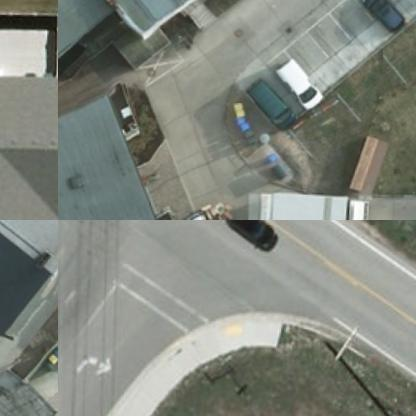car: (220, 220, 286, 259), (358, 0, 406, 42)
van: (238, 82, 298, 138), (270, 56, 326, 116)
